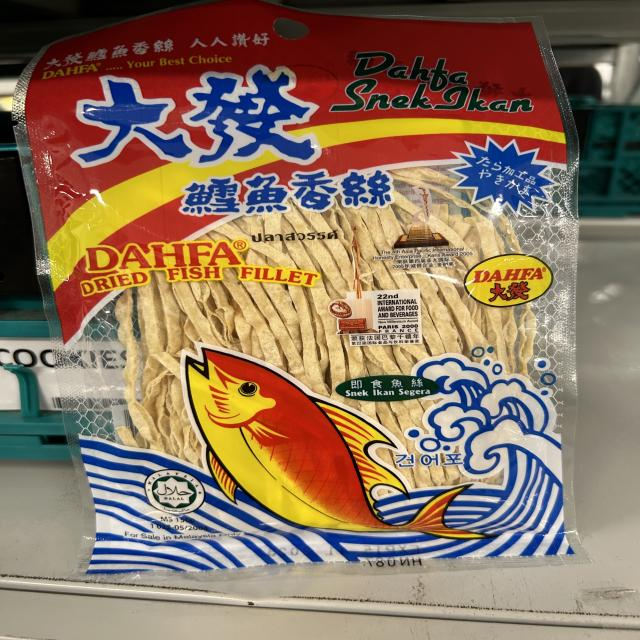object_name: (26, 24, 570, 556)
